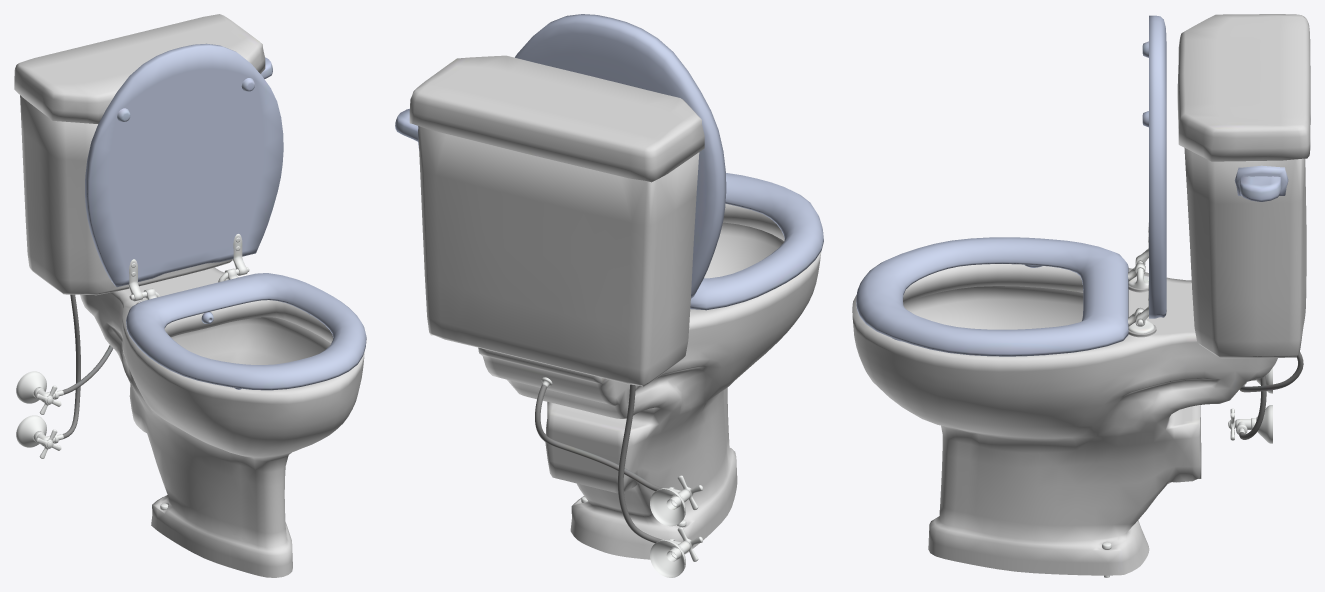
3 views of the same model, side by side, from view 1: azimuth 30°, elevation 25°; view 2: azimuth 150°, elevation 25°; view 3: azimuth 270°, elevation 25° (orthographic). The views are drawn at different scales.
Visible parts, largest first — view 1: Object_6, Object_3, Object_2, Object_4; view 2: Object_6, Object_2, Object_3, Object_4; view 3: Object_6, Object_3, Object_2, Object_4.
Boxes of the visible parts, x1,y1,x2,y2 form: Object_6: [14, 14, 364, 577]; Object_3: [33, 43, 366, 442]; Object_2: [20, 95, 247, 510]; Object_4: [33, 267, 310, 446]; Object_6: [395, 55, 821, 577]; Object_2: [418, 126, 699, 527]; Object_3: [515, 14, 823, 558]; Object_4: [418, 129, 690, 561]; Object_6: [852, 14, 1310, 575]; Object_3: [856, 15, 1255, 434]; Object_2: [1102, 148, 1306, 577]; Object_4: [892, 165, 1303, 439].
Size of the model in its own units: 0.6085 by 1.08 by 0.8496.
1 material, 1 textured.
